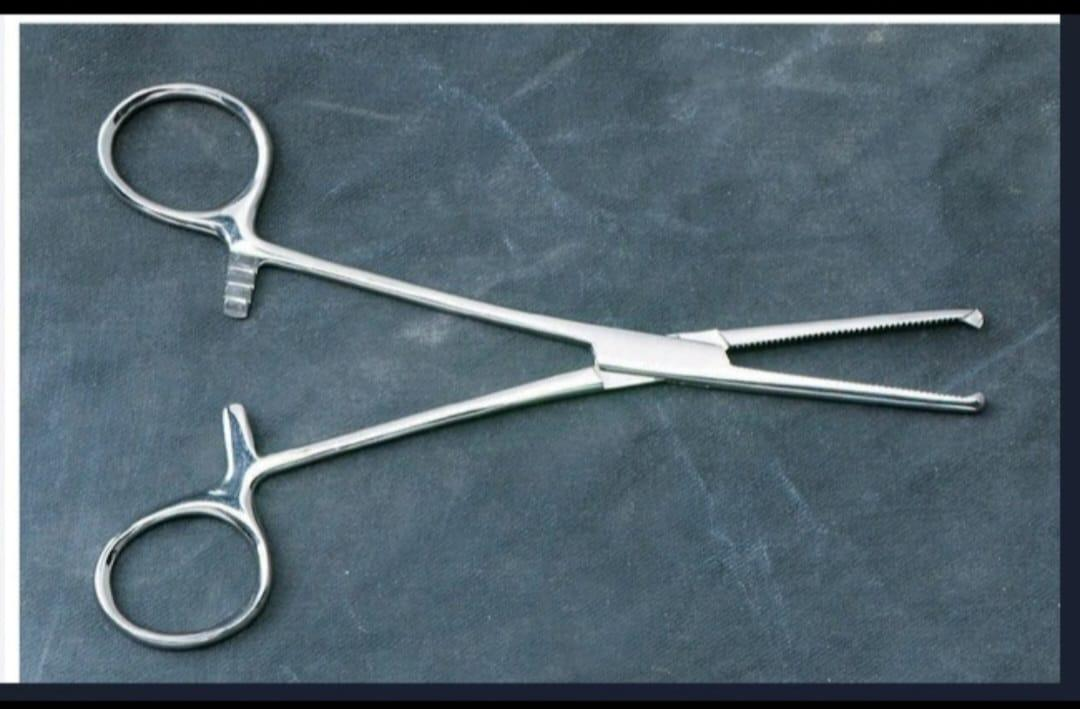Kocher Forceps: (99, 80, 994, 657)
